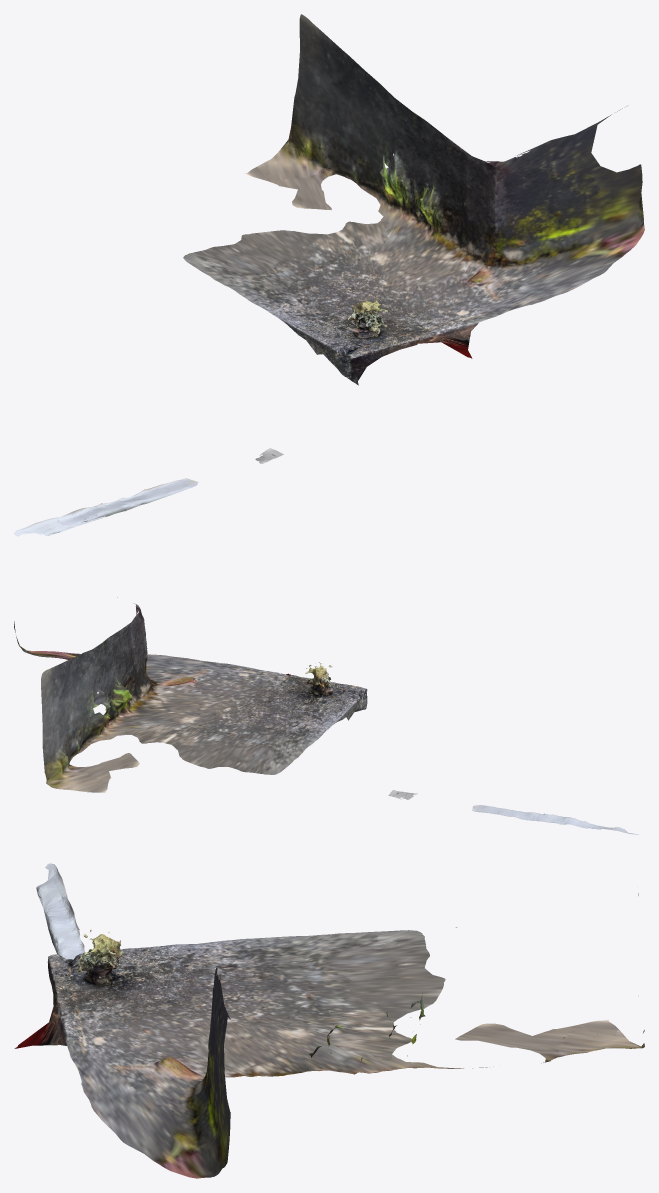
The model's file is Scaniverse 2026-10-12 095148.glb.
3 renders of one model, top to bottom at view 1: azimuth 30°, elevation 25°; view 2: azimuth 150°, elevation 25°; view 3: azimuth 270°, elevation 25°, orthographic. The views are drawn at different scales.
Visible parts, largest first — view 1: mesh; view 2: mesh; view 3: mesh.
Part boxes in pixels (<box>): mesh: <box>14,14,644,536</box>; mesh: <box>14,597,638,834</box>; mesh: <box>14,863,644,1178</box>.
Bounding box in the file's own units: 1.5 × 0.4928 × 0.8903.
1 material, 1 textured.
